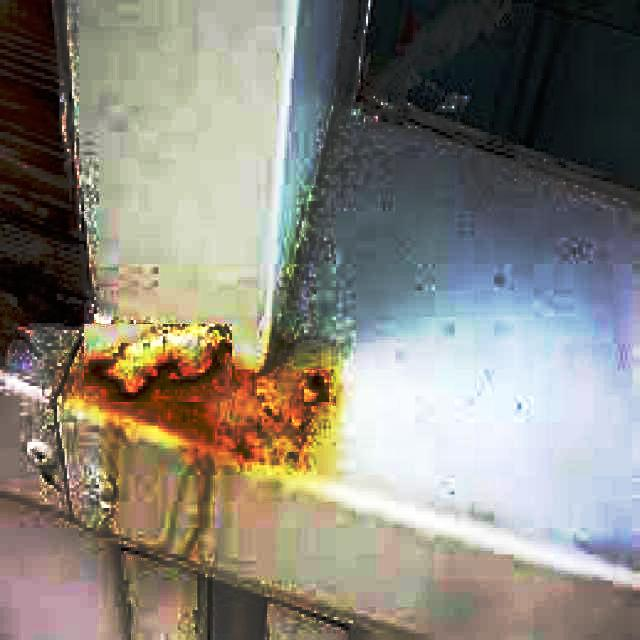Corrosion: (85, 352, 238, 398), (155, 363, 237, 402), (210, 344, 232, 370), (307, 374, 325, 390)
